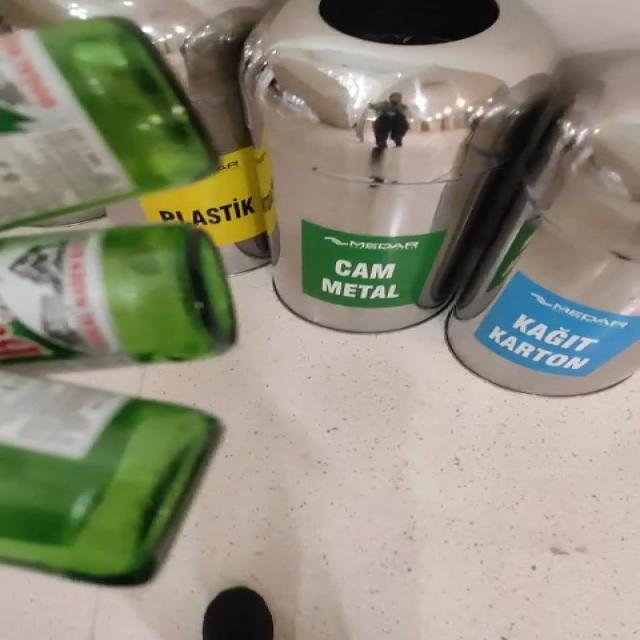bin: (241, 0, 639, 396)
glass: (3, 372, 219, 585), (1, 19, 213, 227), (0, 224, 233, 362)
